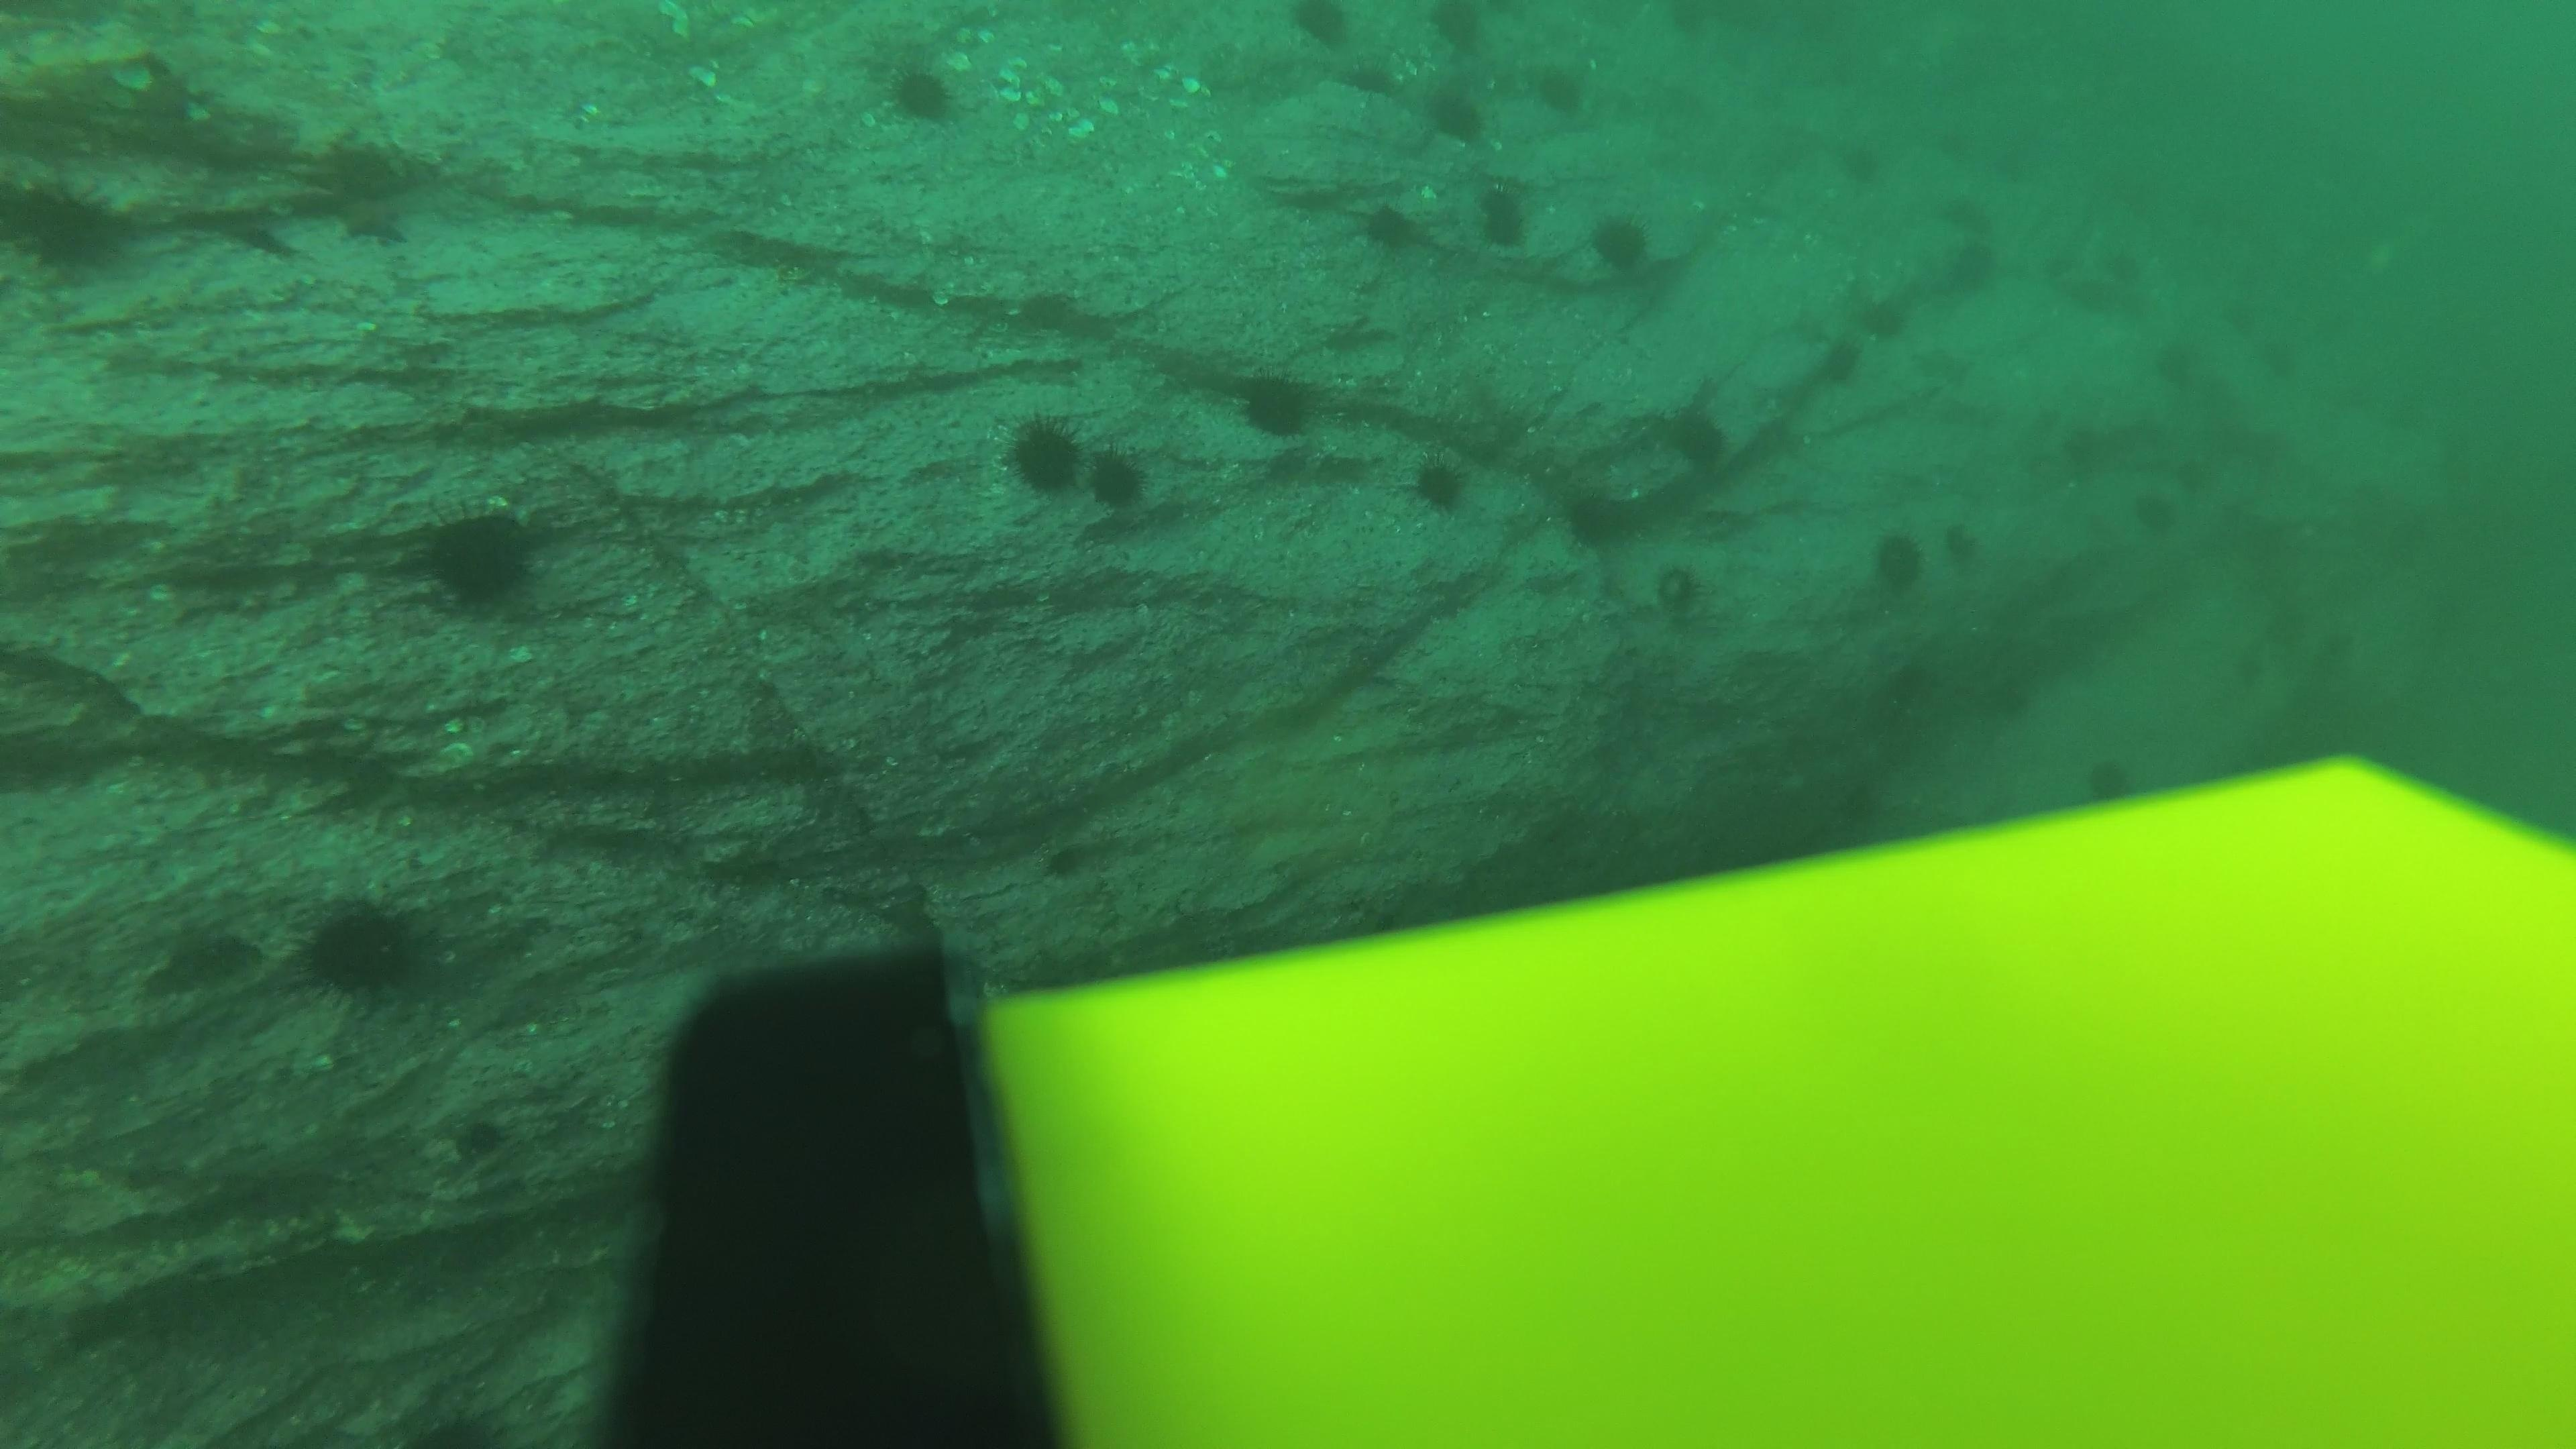echinus: (290, 888, 439, 1008), (409, 499, 550, 617), (4, 170, 136, 283), (989, 407, 1100, 506), (1049, 433, 1161, 527), (1226, 363, 1327, 446), (874, 53, 970, 133), (1652, 395, 1739, 479), (1555, 478, 1644, 554), (1582, 205, 1663, 281), (1859, 522, 1934, 602), (1401, 448, 1479, 520), (1419, 80, 1493, 150), (1645, 557, 1718, 626), (1352, 196, 1428, 262), (1421, 0, 1495, 58), (1283, 0, 1357, 53), (1483, 200, 1537, 255), (1824, 129, 1879, 184), (1529, 62, 1585, 115), (1932, 120, 1987, 173), (2150, 338, 2199, 395), (2219, 640, 2268, 697), (2327, 377, 2376, 433), (1819, 333, 1868, 387), (1854, 303, 1904, 357), (2105, 239, 2155, 294), (2132, 490, 2181, 545), (2054, 407, 2104, 462), (2318, 617, 2367, 672), (2434, 430, 2484, 485), (2318, 294, 2367, 349), (1928, 513, 1976, 570), (1948, 235, 1996, 290), (1950, 180, 1997, 235), (2171, 446, 2219, 501), (1879, 656, 1927, 711), (2088, 748, 2135, 803), (2263, 594, 2311, 649), (2344, 471, 2392, 525), (2378, 515, 2426, 570), (2392, 395, 2440, 449), (1476, 180, 1525, 219), (2224, 295, 2261, 341), (2263, 341, 2298, 375)
starfish: (327, 188, 419, 251)
